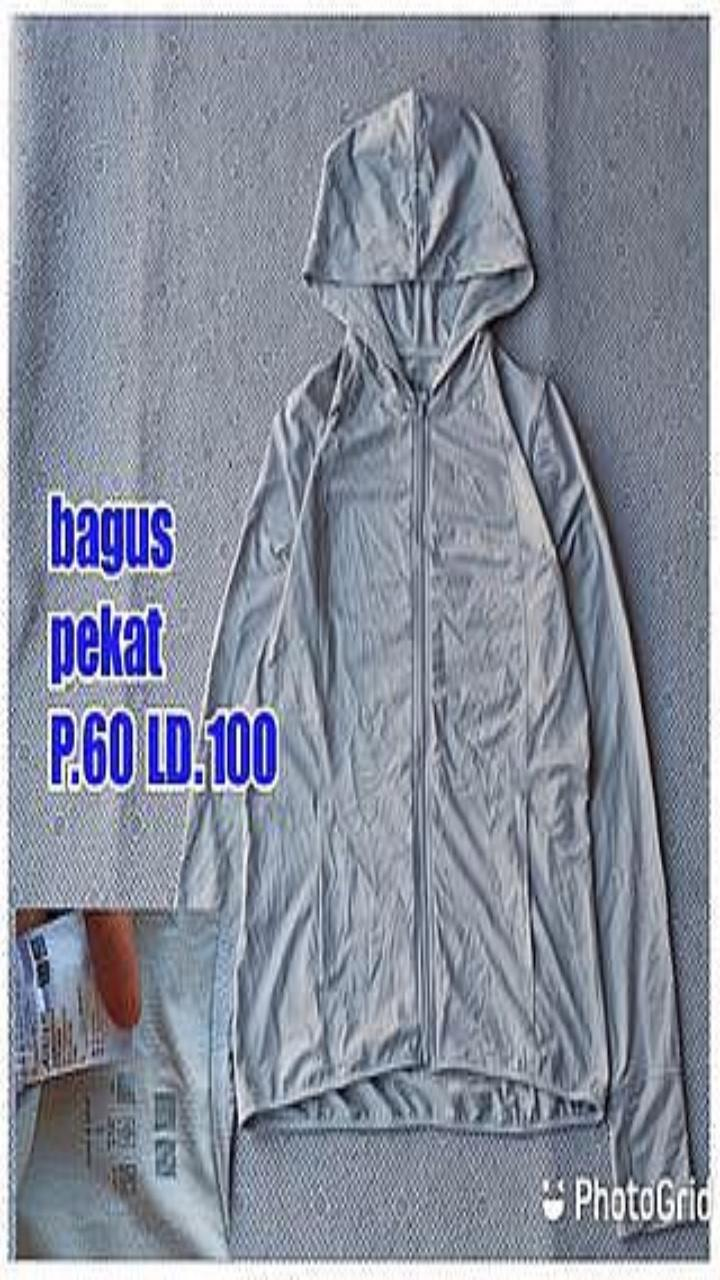Coat: (179, 91, 689, 1184)
